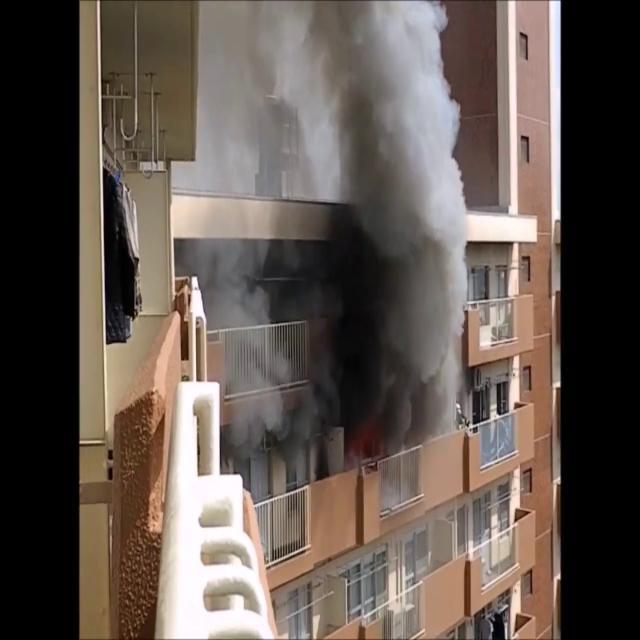Smoke: (196, 0, 472, 468)
